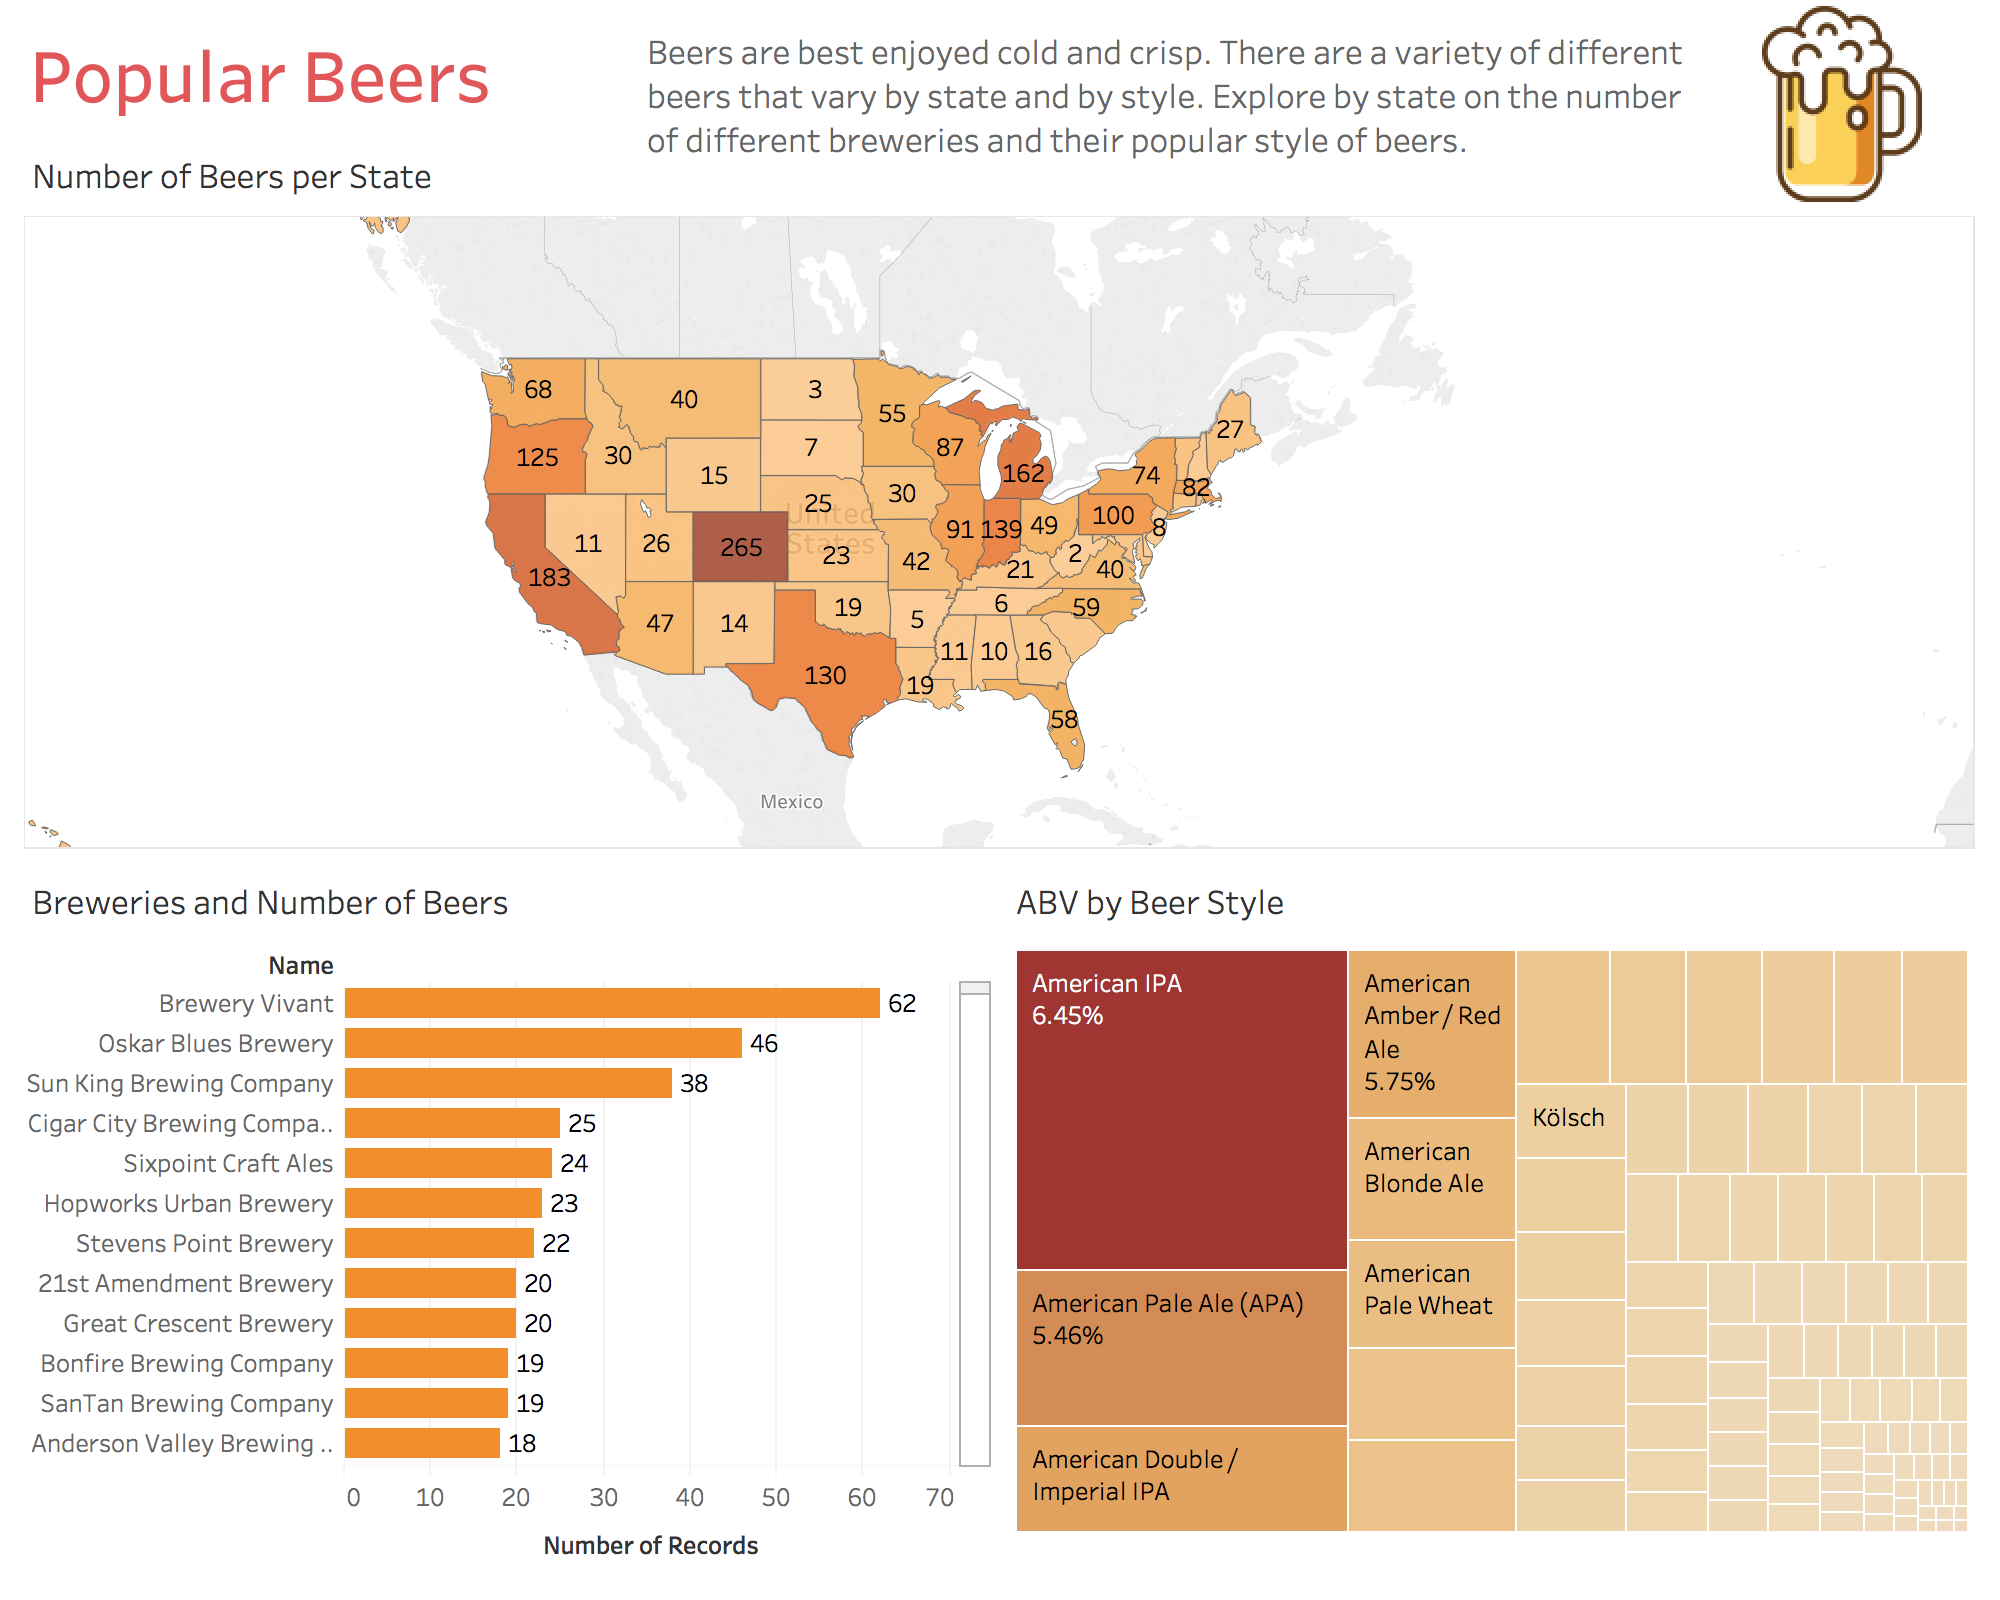

This screenshot's page, from the dashboard's own definition file:
{"tool":"tableau","page":{"name":"Dashboard 1","canvas":[1000,800],"ordinal":0},"visuals":[{"type":"image","param":"Image/beer.png","box":[867,3,108,98]},{"type":"title","box":[8,8,984,58]},{"type":"text","box":[321,14,532,84]},{"type":"worksheet","title":"Number Of Beers per State","mark":"Multipolygon","box":[8,66,984,363]},{"type":"worksheet","title":"# Of Brewers with Highest Beers","mark":"Automatic","rows":["name"],"cols":["Number of Records"],"box":[8,429,492,363]},{"type":"worksheet","title":"ABV by Beer Style","mark":"Automatic","box":[500,429,492,363]}]}

Visuals, with their boxes in screenshot pixels (x1, y1, x2, y2), scaled from the page's 1000x800 canvas onto the 2000x1600 screenshot:
image: Rect(1734, 6, 1950, 202)
title: Rect(16, 16, 1984, 132)
text: Rect(642, 28, 1706, 196)
"Number Of Beers per State" worksheet (Multipolygon marks): Rect(16, 132, 1984, 858)
"# Of Brewers with Highest Beers" worksheet: Rect(16, 858, 1000, 1584)
"ABV by Beer Style" worksheet: Rect(1000, 858, 1984, 1584)
